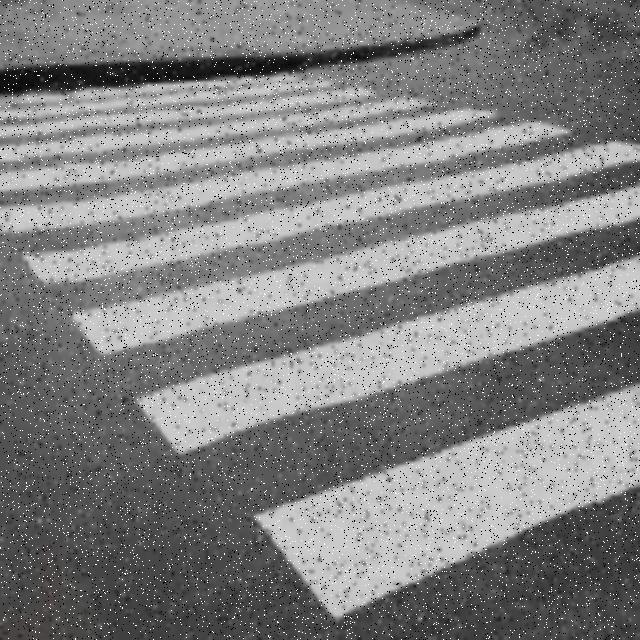crosswalk: (0, 69, 638, 606)
